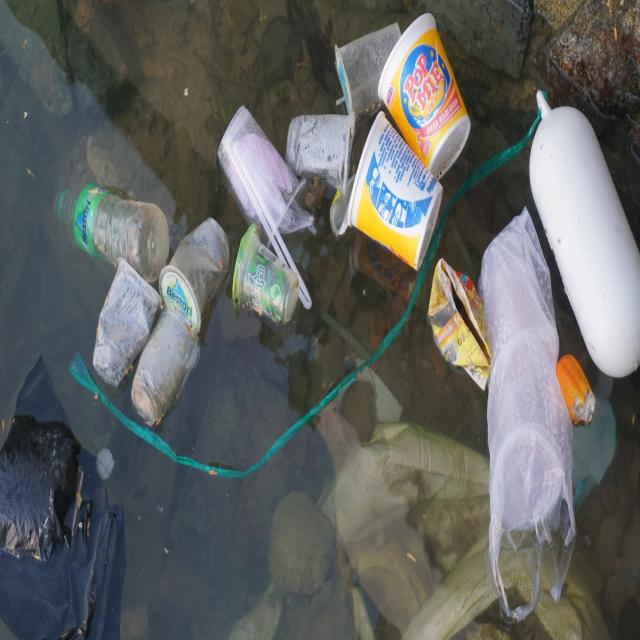Bungkus Makanan: (331, 112, 444, 270), (376, 11, 474, 178), (425, 252, 496, 389)
Bungkus Minuman: (223, 103, 299, 239), (91, 256, 163, 398), (162, 214, 232, 333), (231, 220, 304, 330), (328, 19, 405, 122), (135, 304, 200, 421), (286, 105, 357, 185)
Kantong Plastik: (475, 211, 578, 619), (1, 354, 128, 640)
